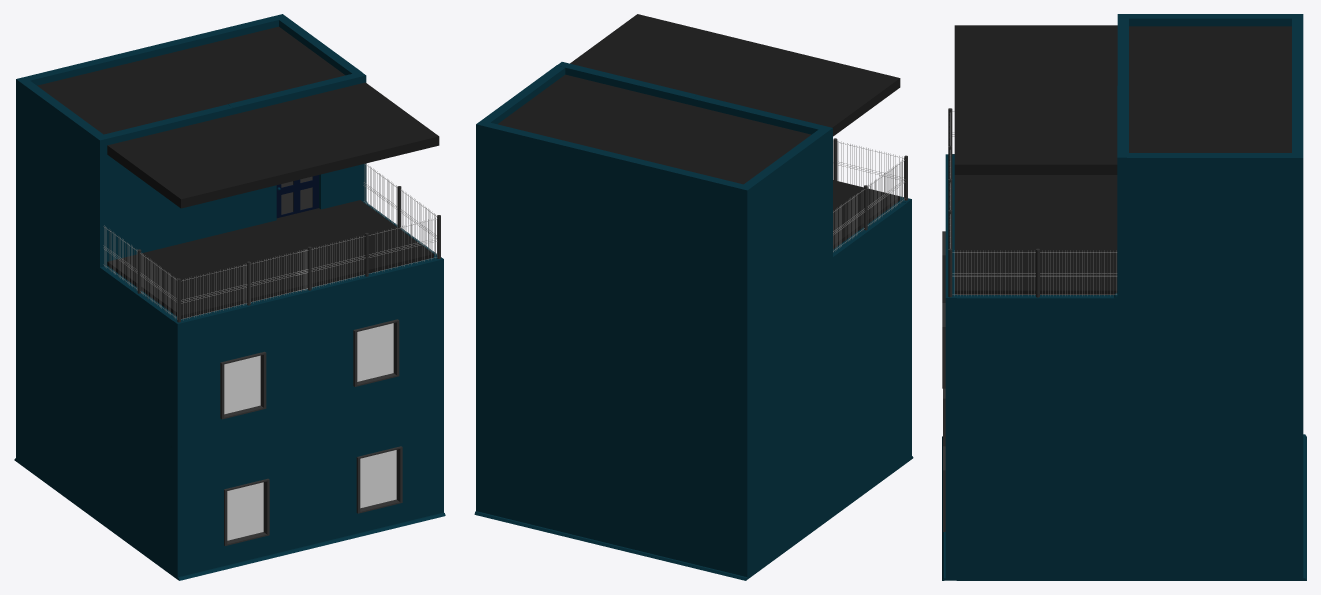
File: side house4.fbx
3 renders of one model, left to right at view 1: azimuth 30°, elevation 25°; view 2: azimuth 150°, elevation 25°; view 3: azimuth 270°, elevation 25°, orthographic. The views are drawn at different scales.
Visible parts, largest first — view 1: wall_with_window.019; view 2: wall_with_window.019; view 3: wall_with_window.019.
Part boxes in pixels (x1,y1,x2,y2): wall_with_window.019: [14, 14, 445, 580]; wall_with_window.019: [474, 14, 913, 580]; wall_with_window.019: [942, 14, 1306, 580].
Size of the model in its own units: 60.03 by 82.25 by 64.28.
